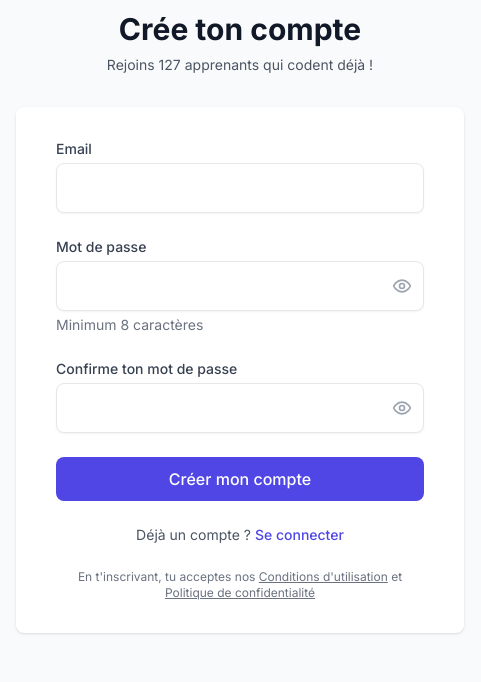
Test case: RegisterPage Integration › Error handling › should display generic error on network failure
The image size is (481, 682).
Type "test@example.com" into the field labelled "Email".
click(240, 188); type("test@example.com")  # box x1=56 y1=163 x2=424 y2=213
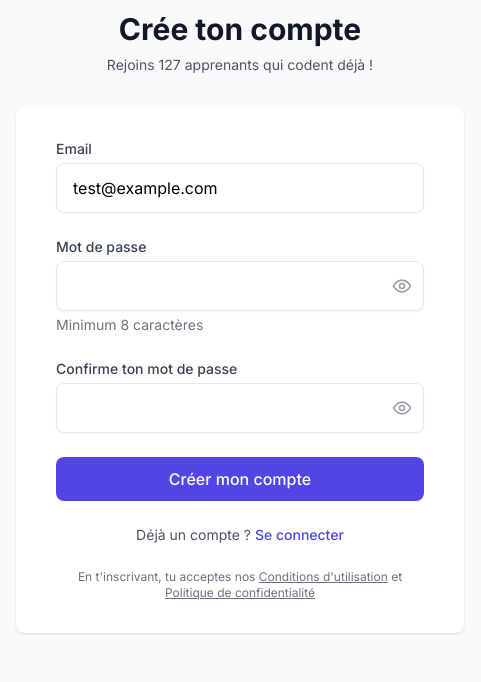
Type "password123" into the password field labelled "Mot de passe".
click(240, 286); type("password123")  # box x1=56 y1=261 x2=424 y2=311
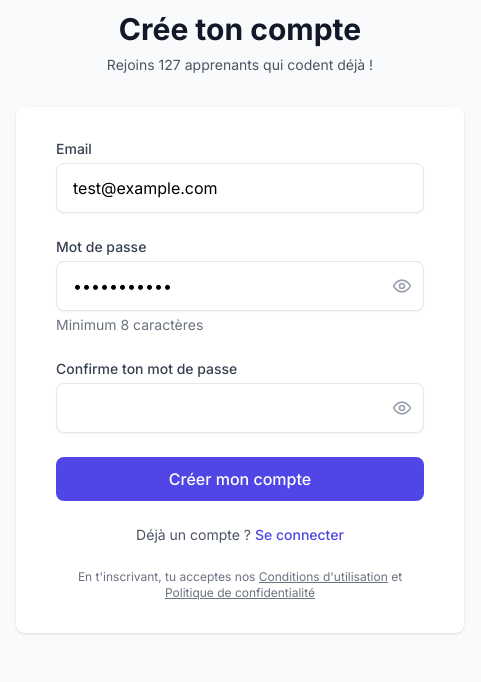
Type "password123" into the password field labelled "Confirme ton mot de passe".
click(240, 408); type("password123")  # box x1=56 y1=383 x2=424 y2=433
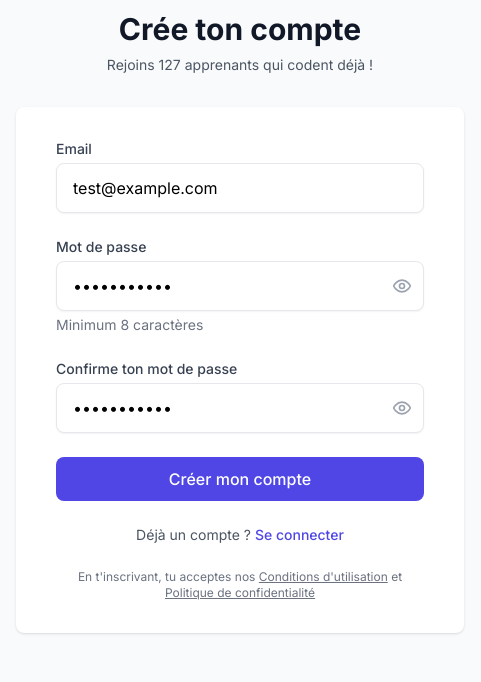
Click the button "Créer mon compte".
click(240, 479)  # box x1=56 y1=457 x2=424 y2=501
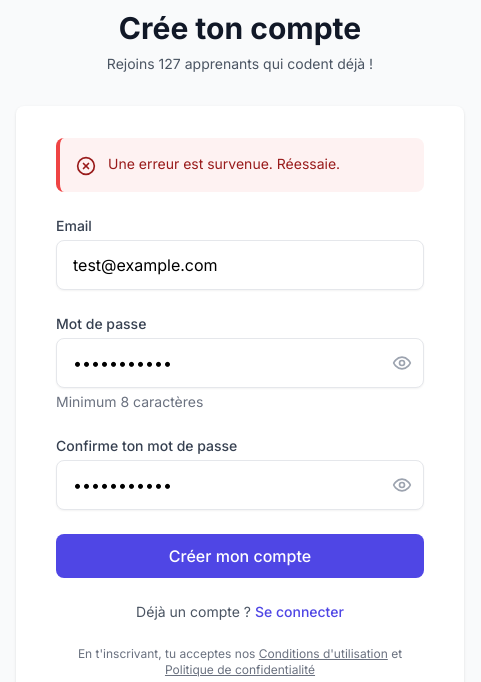
Result: the message shows "Une erreur est survenue" at x1=108 y1=155 x2=340 y2=172
